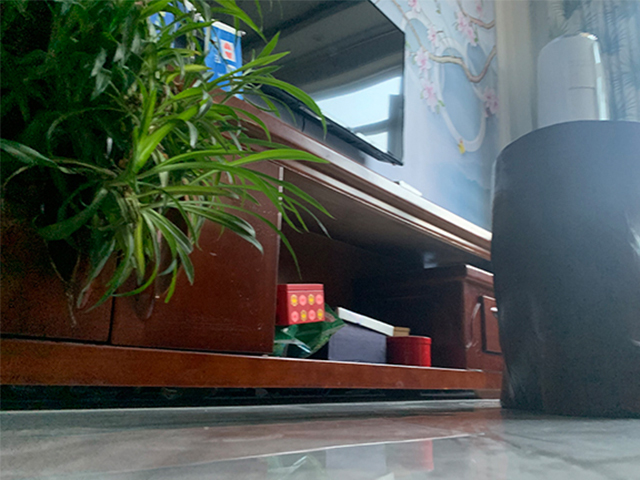cabinet: (1, 27, 504, 399)
stool: (490, 119, 640, 420)
